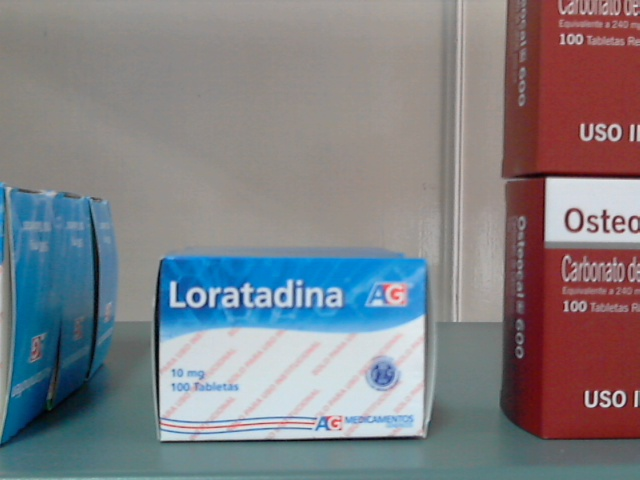AG: (163, 260, 425, 439)
